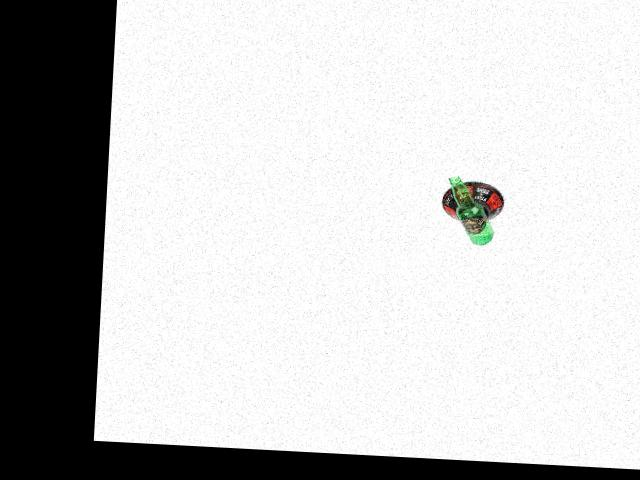beer: (446, 175, 497, 245)
